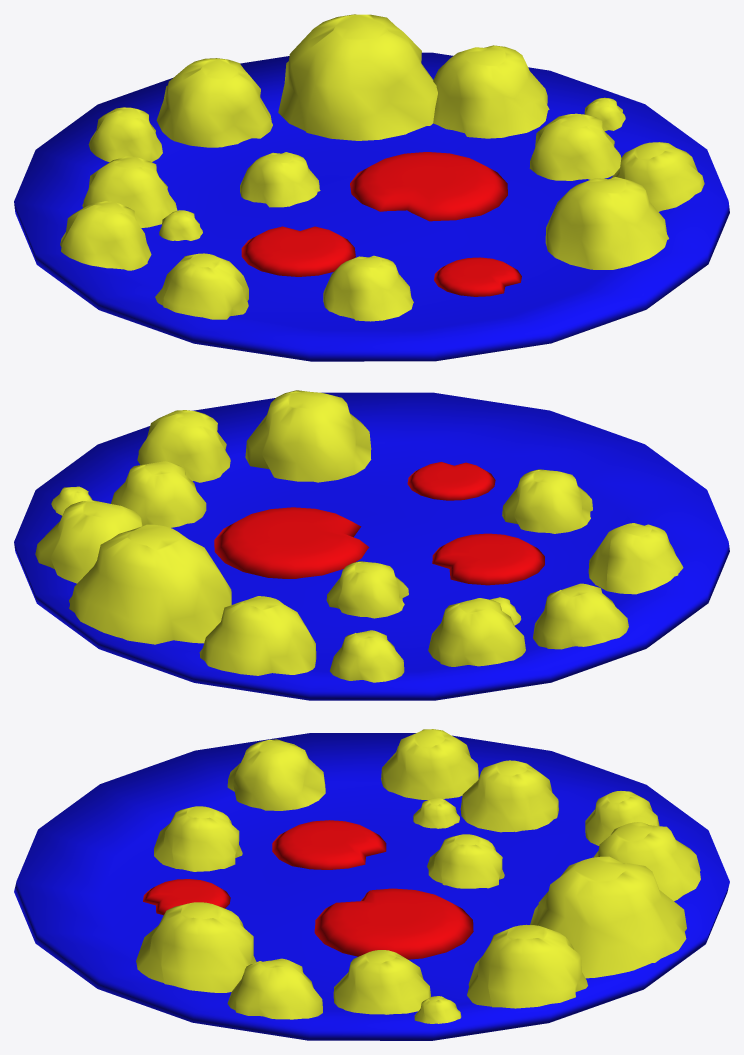
File: bigasspond.FBX
3 renders of one model, top to bottom at view 1: azimuth 30°, elevation 25°; view 2: azimuth 150°, elevation 25°; view 3: azimuth 270°, elevation 25°, orthographic.
Visible parts, largest first — view 1: POND; view 2: POND; view 3: POND.
Boxes of the visible parts, <box> form: POND: <box>14,14,729,361</box>; POND: <box>14,390,729,700</box>; POND: <box>14,729,729,1040</box>.
Bounding box in the file's own units: 422 × 66.89 × 429.
